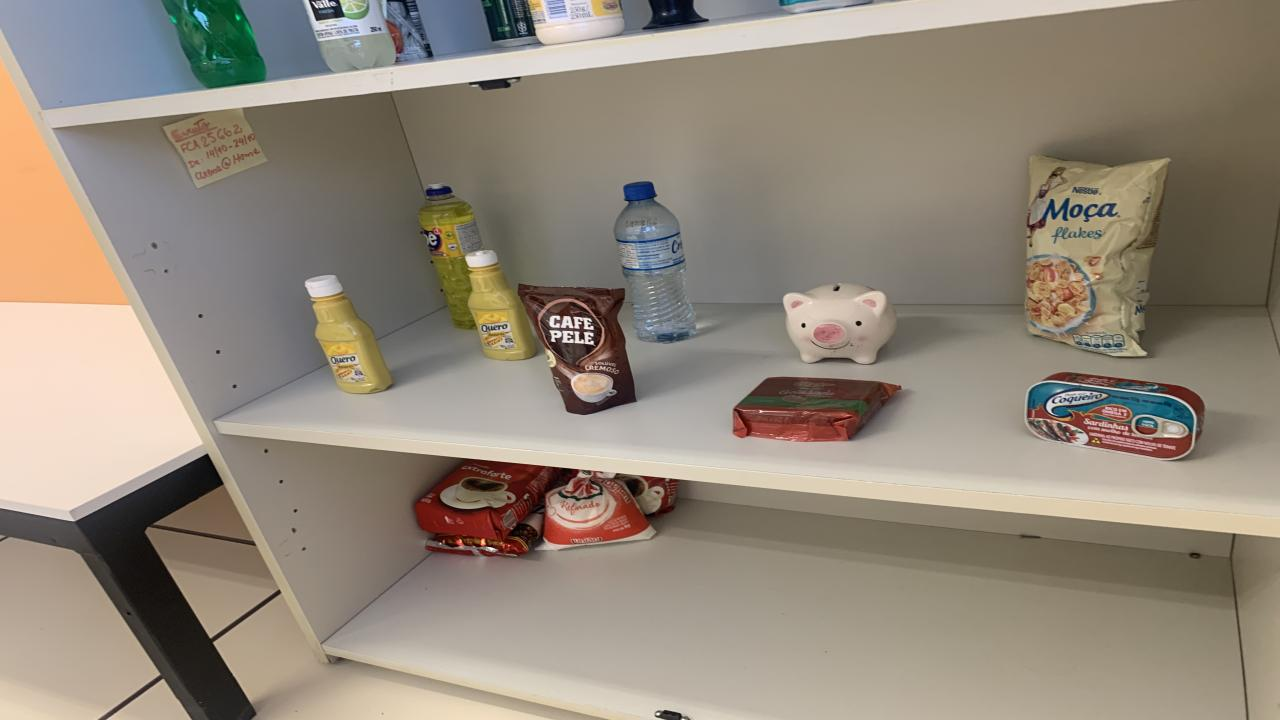Coffee-Pantry_Items: (518, 285, 635, 414)
Detergent-Cleanup_Items: (418, 184, 482, 330), (162, 0, 265, 88)
English_Sauce-Pantry_Items: (382, 0, 432, 62)
Flakes-Snacks: (1025, 156, 1170, 356)
Guarana_Can-Drinks: (482, 0, 538, 47)
Guava-Snacks: (732, 377, 900, 442)
Mayonnaise-Pantry_Items: (528, 0, 625, 45)
Mustard-Pantry_Items: (305, 276, 392, 394), (465, 249, 538, 360)
Pig_Safe-Miscellaneous: (782, 283, 898, 364)
Soda-Drinks: (305, 0, 395, 71)
Tea-Drinks: (780, 0, 872, 13)
Tuna_Can-Pantry_Items: (1025, 373, 1205, 459)
Water_Bottle-Drinks: (615, 182, 695, 343)
